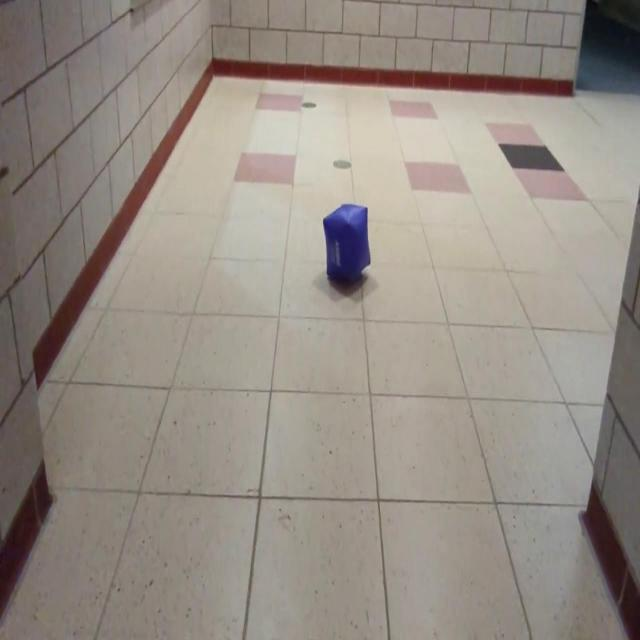frc_cube: (323, 201, 371, 286)
